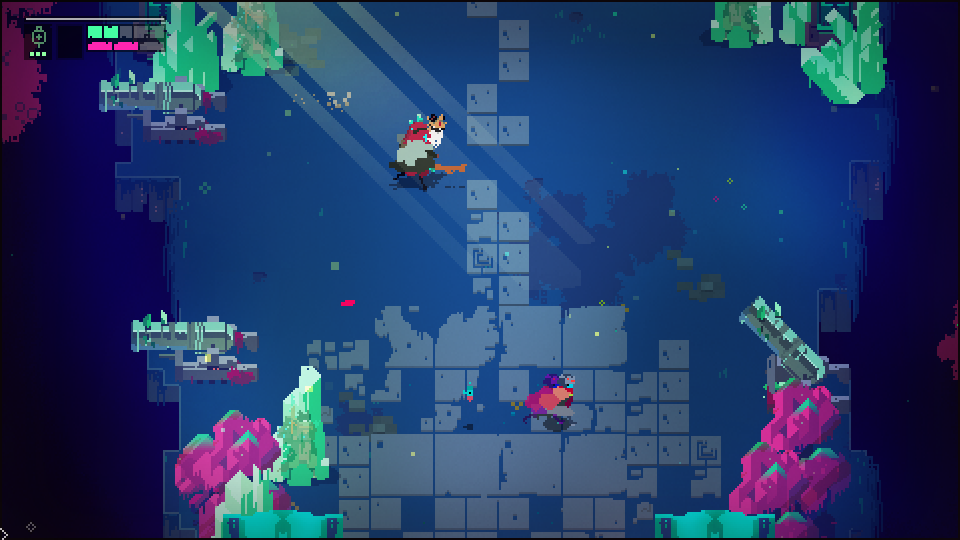hanged_man: (389, 109, 470, 194)
player: (535, 371, 577, 431)
